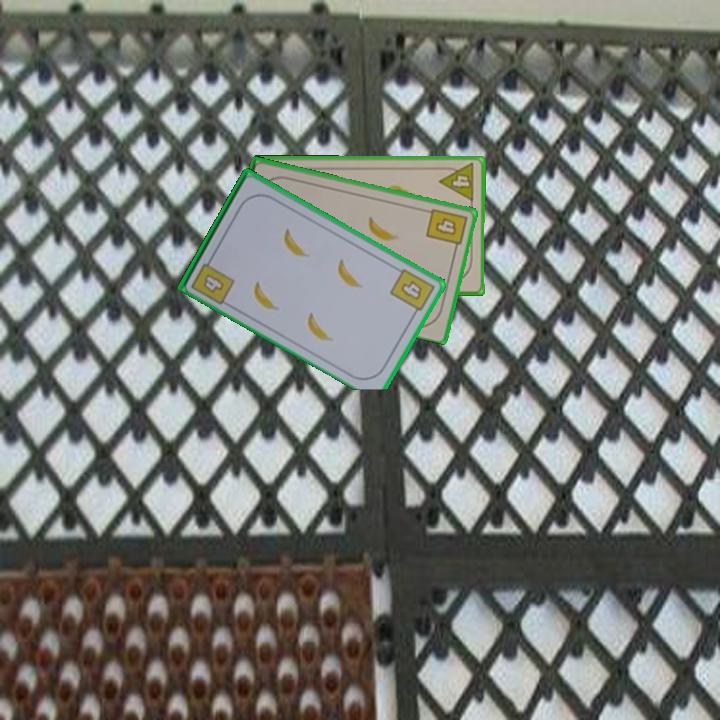4b: (386, 264, 438, 319), (188, 252, 237, 307), (422, 205, 470, 254)
4p: (436, 160, 477, 204)
